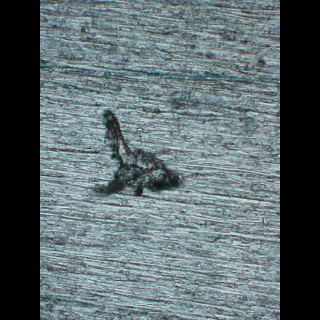d: (86, 107, 185, 201)
